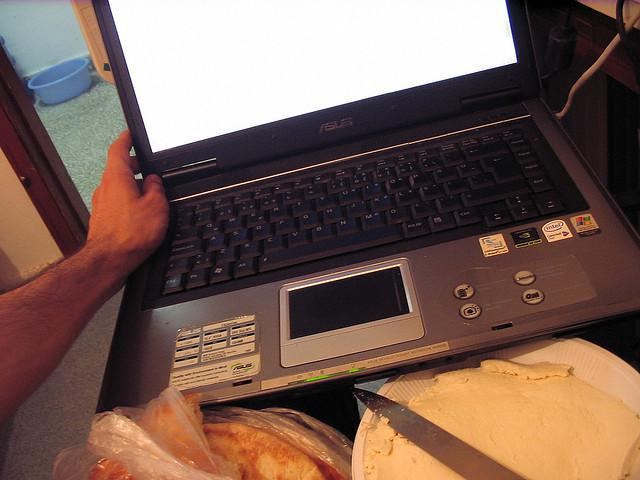hand: (64, 125, 171, 303)
tv: (94, 3, 614, 375)
